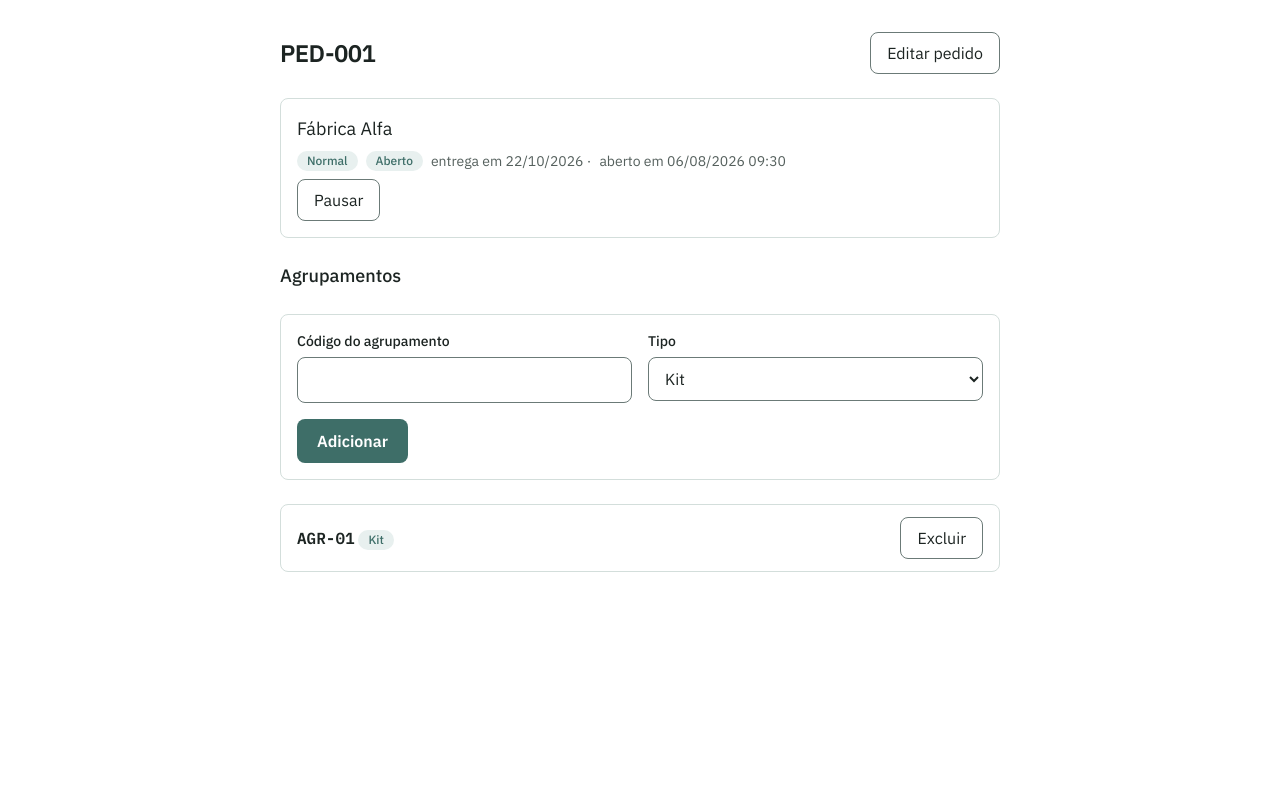
Test: PedidoDetalhePage › o botao do item continua alcancavel pelo papel e nome, e o clique dispara a acao e nao a navegacao
This screenshot has width=1280, height=800.
Click the button "Excluir" at (942, 538), box [900,517,983,559]
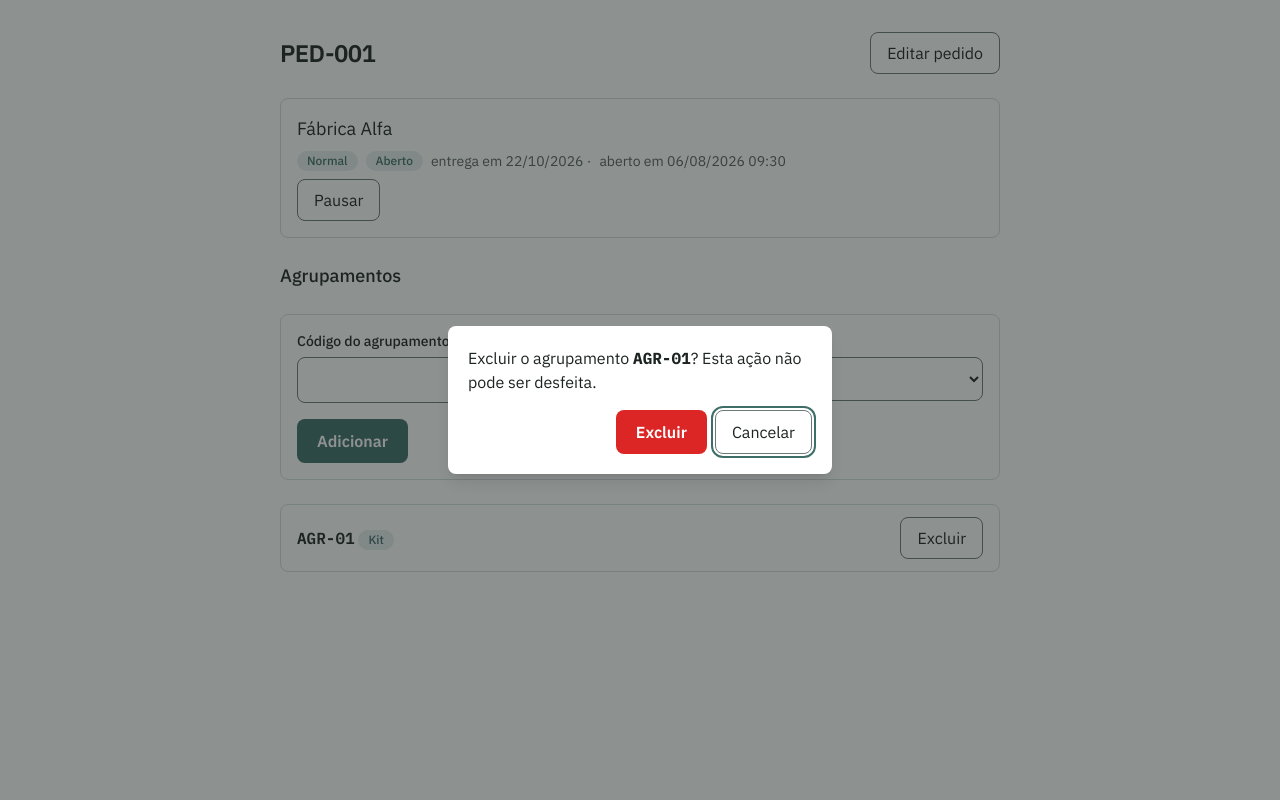
expect the dialog is shown: met, box [448,326,832,474]
